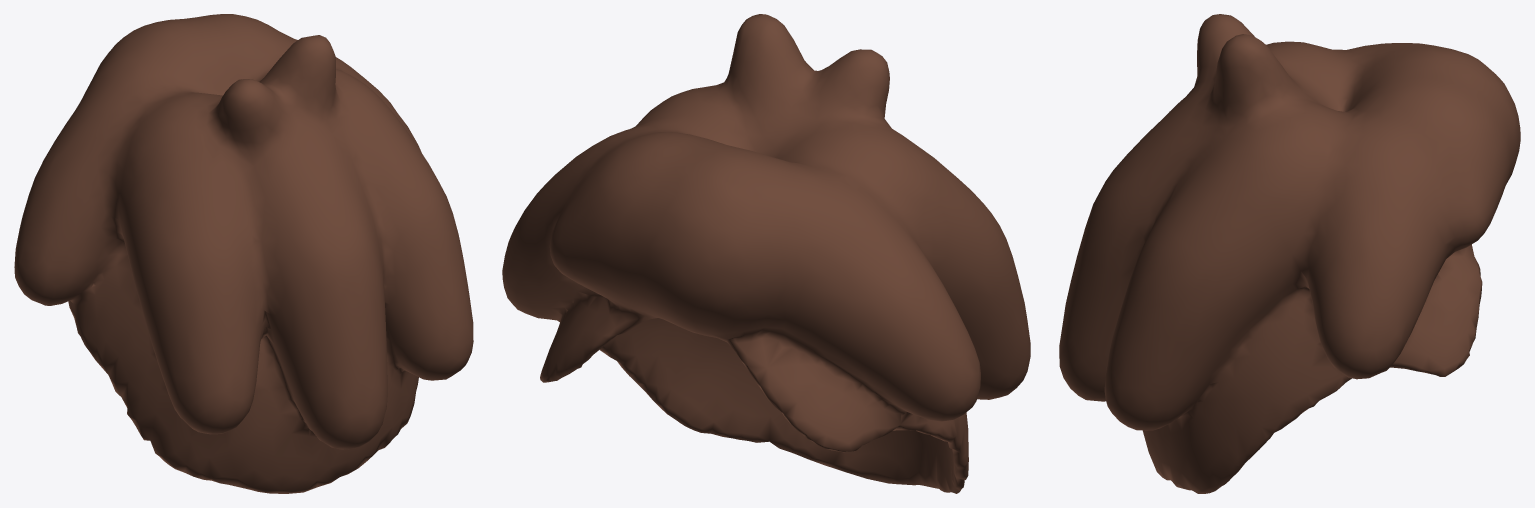
Rendered from hair_bernard.glb.
3 views of the same model, side by side, from view 1: azimuth 30°, elevation 25°; view 2: azimuth 150°, elevation 25°; view 3: azimuth 270°, elevation 25° (orthographic). The views are drawn at different scales.
Parts seen in each view (by area): view 1: Hair; view 2: Hair; view 3: Hair.
Boxes of the visible parts, box(x1,y1,x2,y2) form: Hair: box(14, 14, 473, 493); Hair: box(502, 14, 1030, 493); Hair: box(1059, 14, 1520, 493).
Size of the model in its own units: 0.4122 by 0.4045 by 0.3792.
